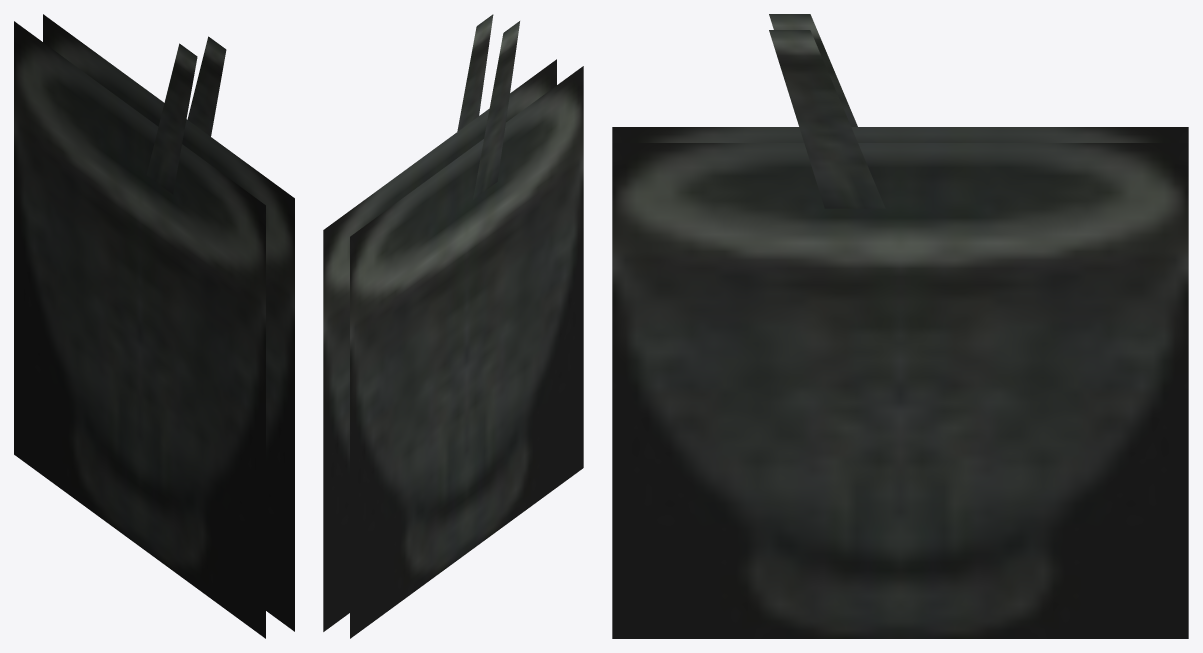
File: sign1_spanish_c_icon_chemist.fbx
3 views of the same model, side by side, from view 1: azimuth 30°, elevation 25°; view 2: azimuth 150°, elevation 25°; view 3: azimuth 270°, elevation 25° (orthographic). The views are drawn at different scales.
Parts seen in each view (by area): view 1: mortor, pestle; view 2: mortor, pestle; view 3: mortor, pestle.
Boxes of the visible parts, x1,y1,x2,y2 form: mortor: [14, 14, 294, 638]; pestle: [146, 36, 226, 194]; mortor: [323, 59, 583, 638]; pestle: [457, 14, 519, 199]; mortor: [612, 127, 1188, 638]; pestle: [769, 14, 885, 208].
Bounding box in the file's own units: 16.67 × 293 × 251.
Materials: 1 (1 with a texture image).
